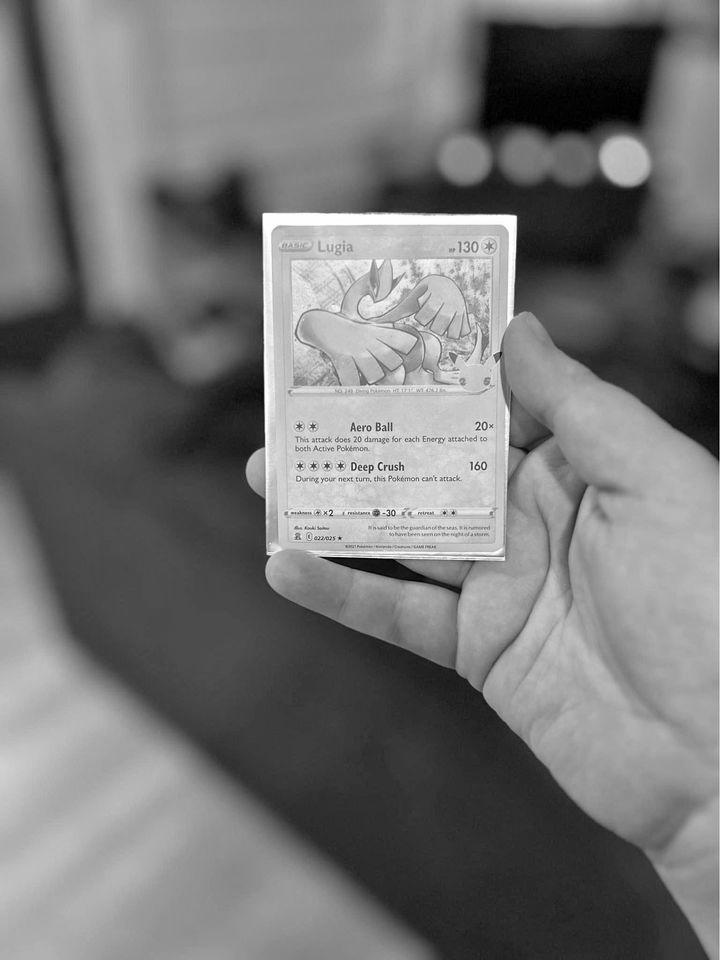card: (269, 222, 510, 553)
